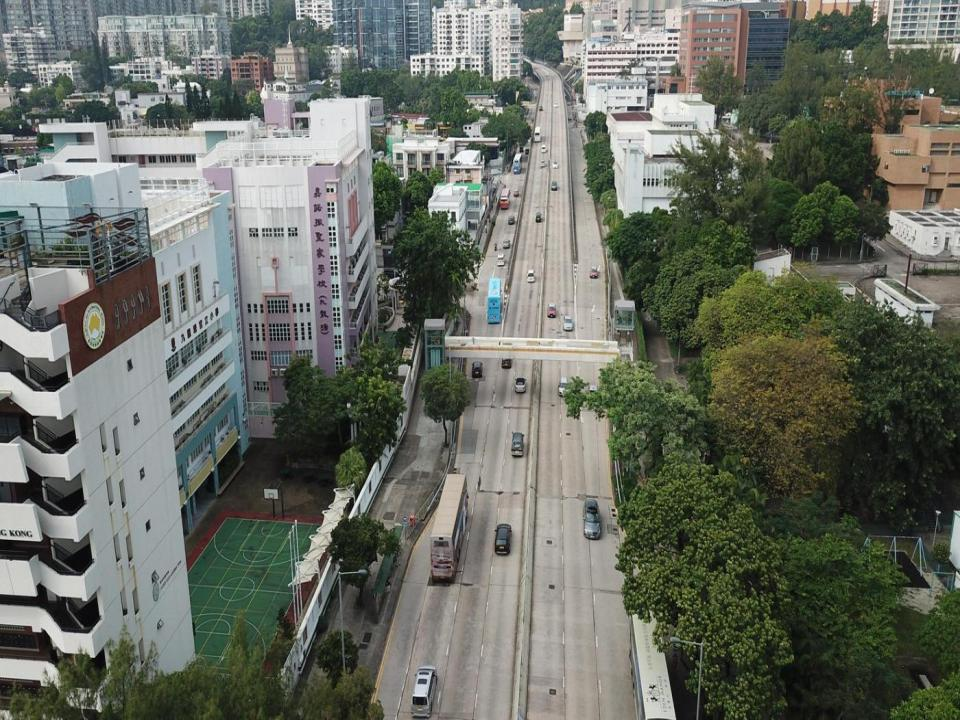bus: (431, 474, 469, 581), (488, 278, 501, 322), (500, 188, 510, 209), (513, 154, 522, 174), (534, 125, 541, 142)
car: (583, 498, 600, 539), (494, 522, 512, 556), (587, 386, 599, 408), (500, 349, 513, 367), (558, 377, 569, 396), (515, 376, 526, 392), (564, 315, 573, 332), (547, 302, 556, 318), (589, 265, 598, 280), (508, 213, 516, 224), (535, 212, 542, 224), (551, 180, 557, 190), (503, 239, 510, 246), (514, 188, 519, 196), (553, 161, 558, 168), (518, 144, 522, 152), (525, 148, 529, 154), (539, 104, 542, 111), (554, 102, 558, 107), (534, 65, 538, 68), (532, 116, 534, 122)
van: (411, 664, 437, 716), (512, 432, 524, 458), (471, 361, 483, 378), (526, 268, 534, 282), (496, 253, 504, 266), (541, 144, 546, 152), (540, 159, 544, 166)
